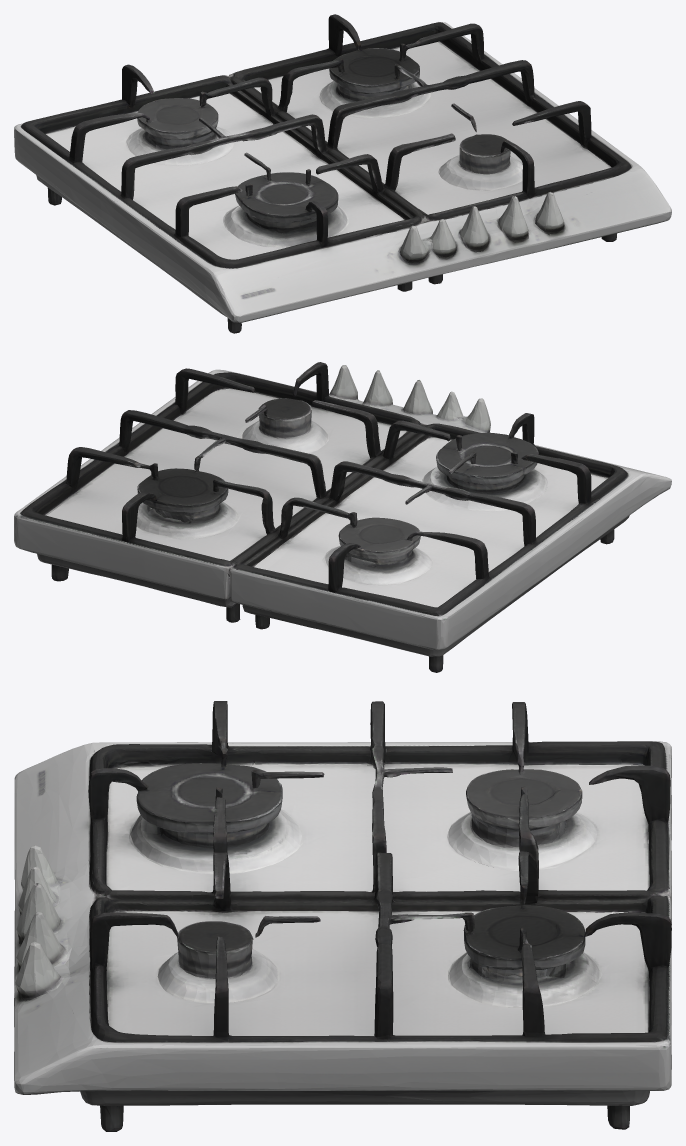
The model's file is stove.glb.
3 renders of one model, top to bottom at view 1: azimuth 30°, elevation 25°; view 2: azimuth 150°, elevation 25°; view 3: azimuth 270°, elevation 25°, orthographic. The views are drawn at different scales.
Parts seen in each view (by area): view 1: world; view 2: world; view 3: world.
Boxes of the visible parts, x1,y1,x2,y2 form: world: [14, 14, 671, 333]; world: [14, 362, 671, 672]; world: [14, 701, 671, 1131].
Bounding box in the file's own units: 0.9991 × 0.2345 × 0.8956.
Materials: 1 (1 with a texture image).
